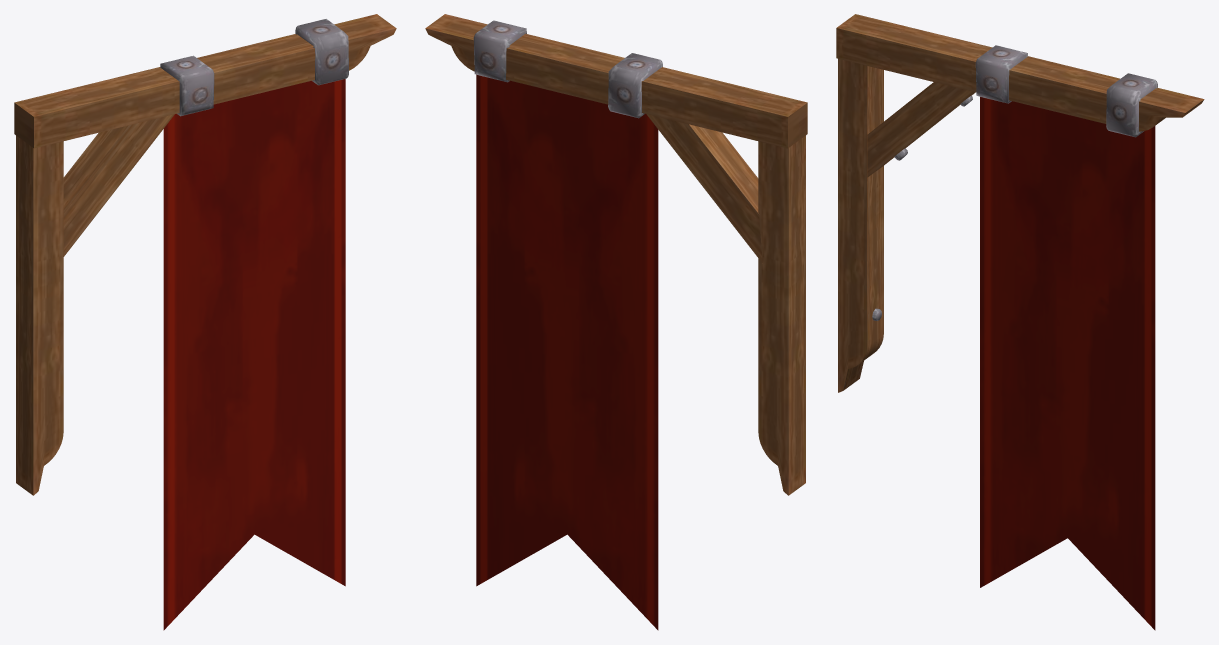
The model's file is banner-1.glb.
The picture shows the model from 3 angles, left to right: view 1: azimuth 30°, elevation 25°; view 2: azimuth 150°, elevation 25°; view 3: azimuth 330°, elevation 25°; orthographic projection. The views are drawn at different scales.
Visible parts, largest first — view 1: Banner_1; view 2: Banner_1; view 3: Banner_1.
Boxes of the visible parts, x1,y1,x2,y2 form: Banner_1: (14, 14, 396, 630); Banner_1: (425, 14, 807, 630); Banner_1: (836, 14, 1204, 630).
Size of the model in its own units: 1.61 by 2.39 by 0.1906.
Materials: 3 (3 with a texture image).
